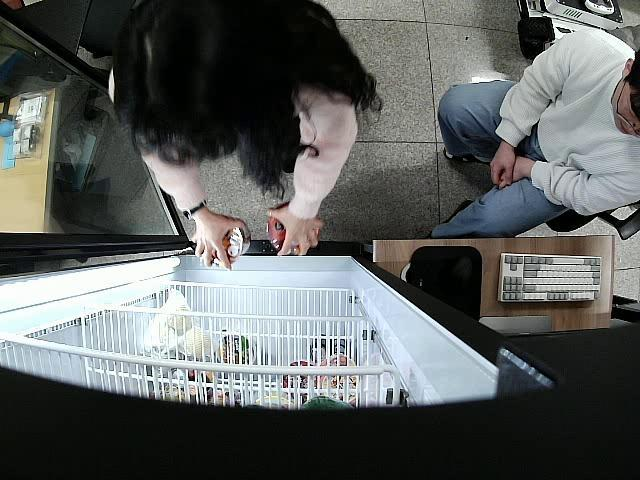05_nuguri_L: (266, 205, 318, 252), (201, 218, 250, 265)
